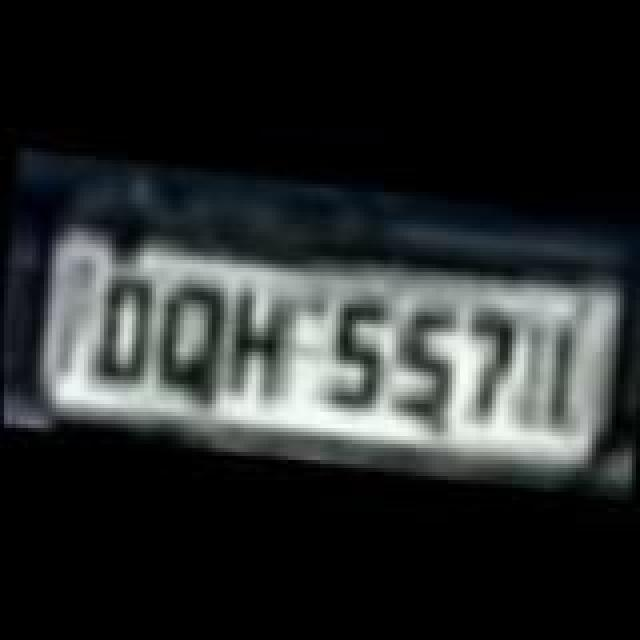1: (538, 312, 586, 428)
5: (316, 296, 392, 416), (388, 300, 464, 416)
7: (456, 308, 524, 428)
D: (88, 266, 156, 386)
H: (218, 282, 298, 406)
Q: (152, 276, 236, 396)
